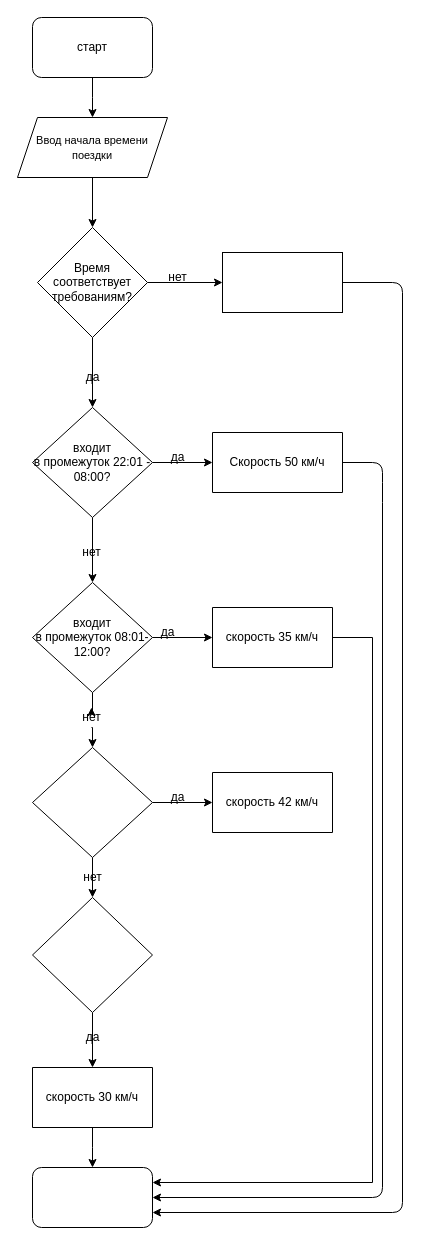
This 428x1245 diagram has some shape labels left out. Here are the shapes that lost their labels. From the top down, the box of each, then its label:
(222, 252, 342, 312): Ошибка "Вы ввели некорректное время"
(32, 746, 152, 858): входит в промежуток 12:01-18:00?
(32, 896, 152, 1012): входит в промежуток 18:01-22:00?
(32, 1166, 152, 1228): конец
